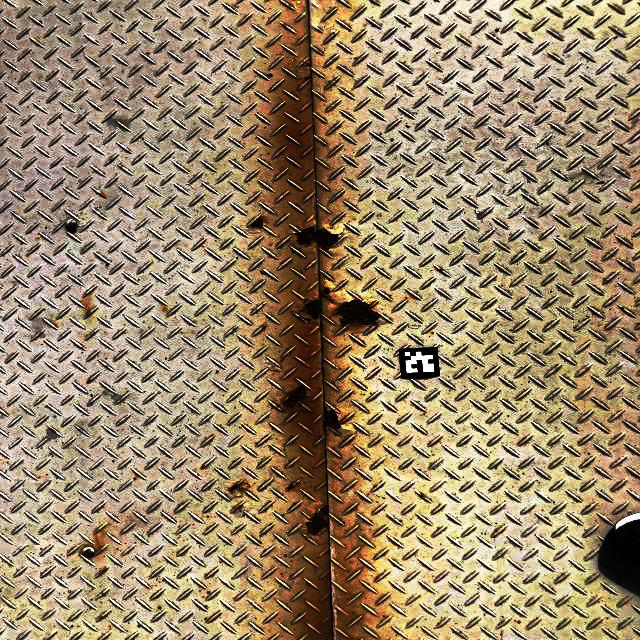Corrosion: (335, 300, 380, 325), (294, 226, 339, 250), (304, 503, 329, 537), (282, 385, 307, 408), (323, 404, 341, 431), (299, 299, 321, 319), (229, 481, 250, 495), (248, 215, 267, 229), (320, 287, 334, 302), (296, 314, 313, 322), (288, 482, 301, 492), (233, 504, 245, 512), (304, 75, 311, 80), (421, 493, 426, 498)
